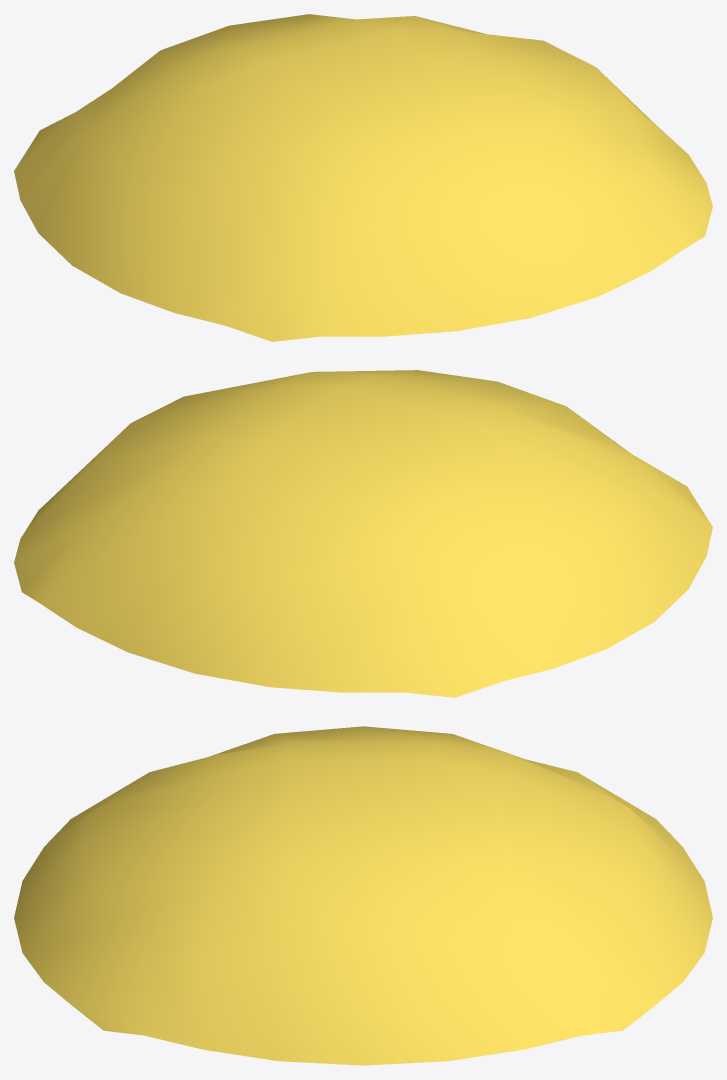
The model's file is island.fbx.
The picture shows the model from 3 angles, top to bottom: view 1: azimuth 30°, elevation 25°; view 2: azimuth 150°, elevation 25°; view 3: azimuth 270°, elevation 25°; orthographic projection. The views are drawn at different scales.
Parts seen in each view (by area): view 1: island; view 2: island; view 3: island.
Part boxes in pixels (left/top/right/bottom): island: left=14, top=14, right=712, bottom=341; island: left=14, top=370, right=712, bottom=697; island: left=14, top=726, right=712, bottom=1065.
Bounding box in the file's own units: 239 × 49.02 × 239.
